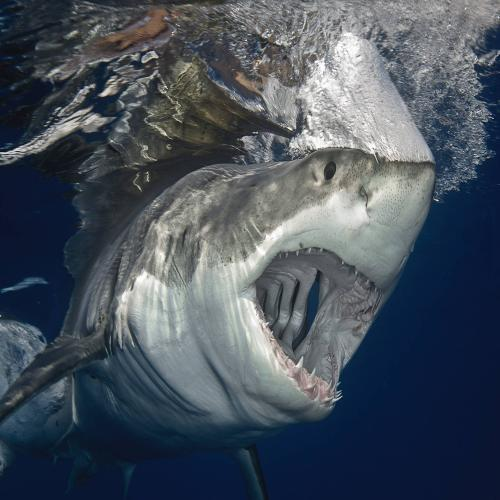shark-endangered: (57, 134, 441, 439)
